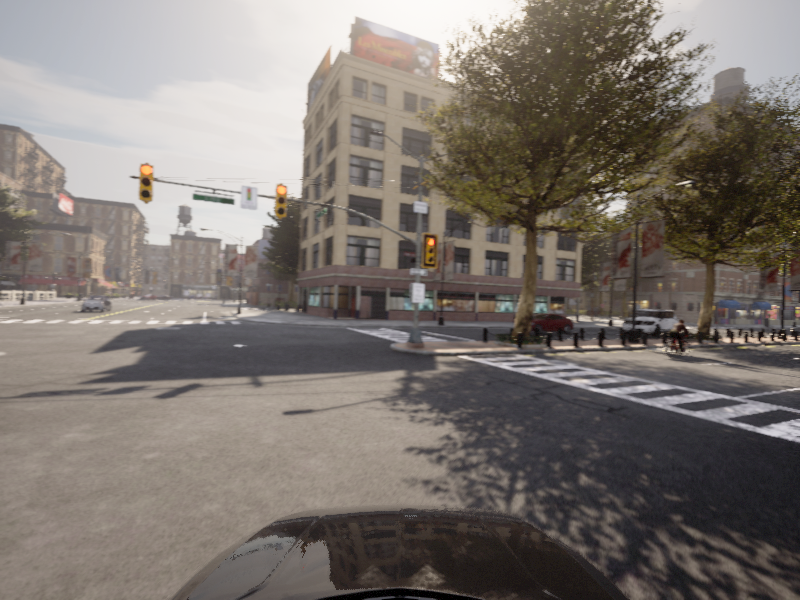vehicle: (619, 307, 681, 338), (659, 318, 697, 358), (511, 312, 578, 334), (78, 294, 114, 312)
